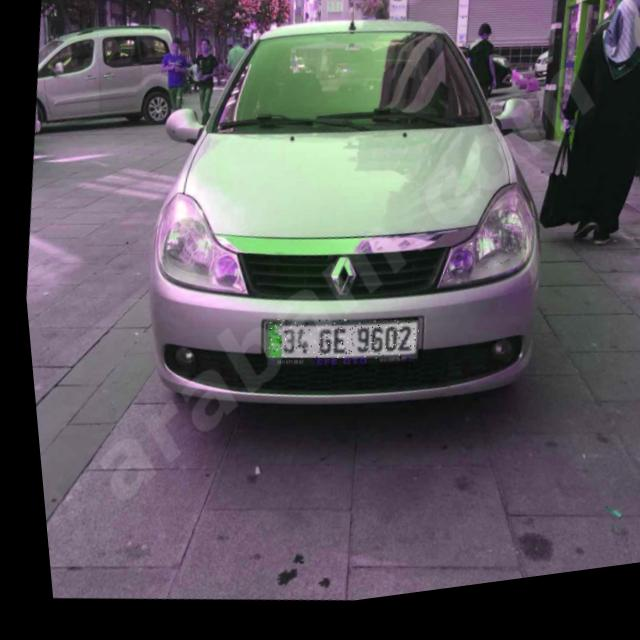license_plate: (255, 310, 415, 385)
